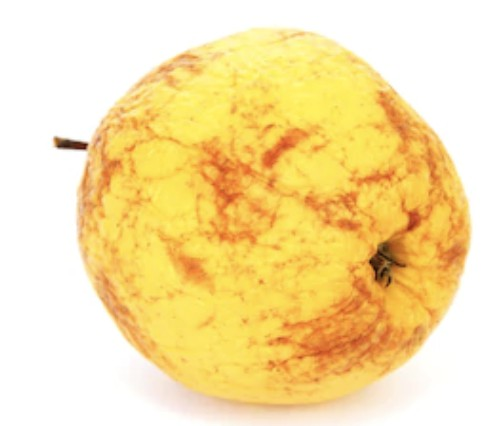rotten_apple: (76, 26, 473, 408)
